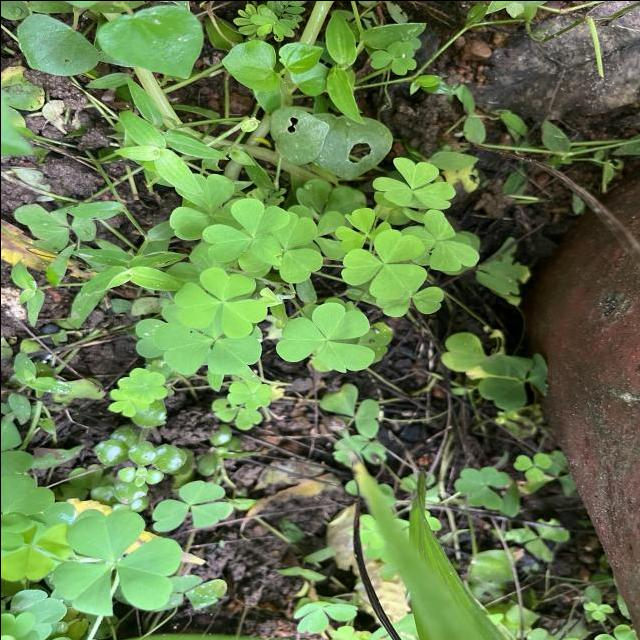Oxalis corniculata: (48, 508, 184, 616), (273, 301, 377, 374), (172, 266, 268, 338), (200, 196, 290, 266), (339, 228, 427, 299), (150, 328, 264, 376), (371, 156, 455, 210), (150, 480, 234, 532), (452, 466, 510, 510), (368, 38, 418, 76), (116, 367, 168, 403), (225, 379, 272, 410), (512, 451, 551, 482)
